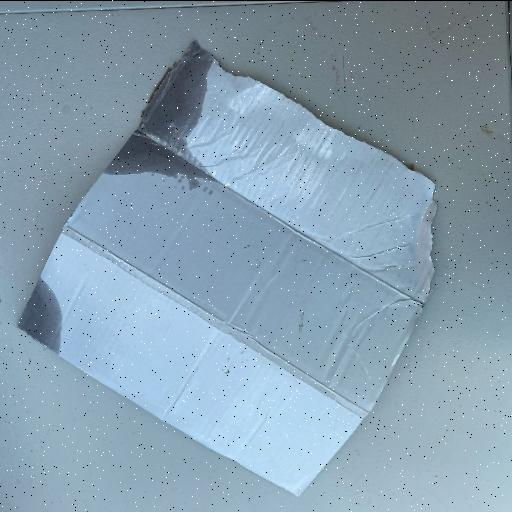Cardboard: (16, 38, 438, 496)
